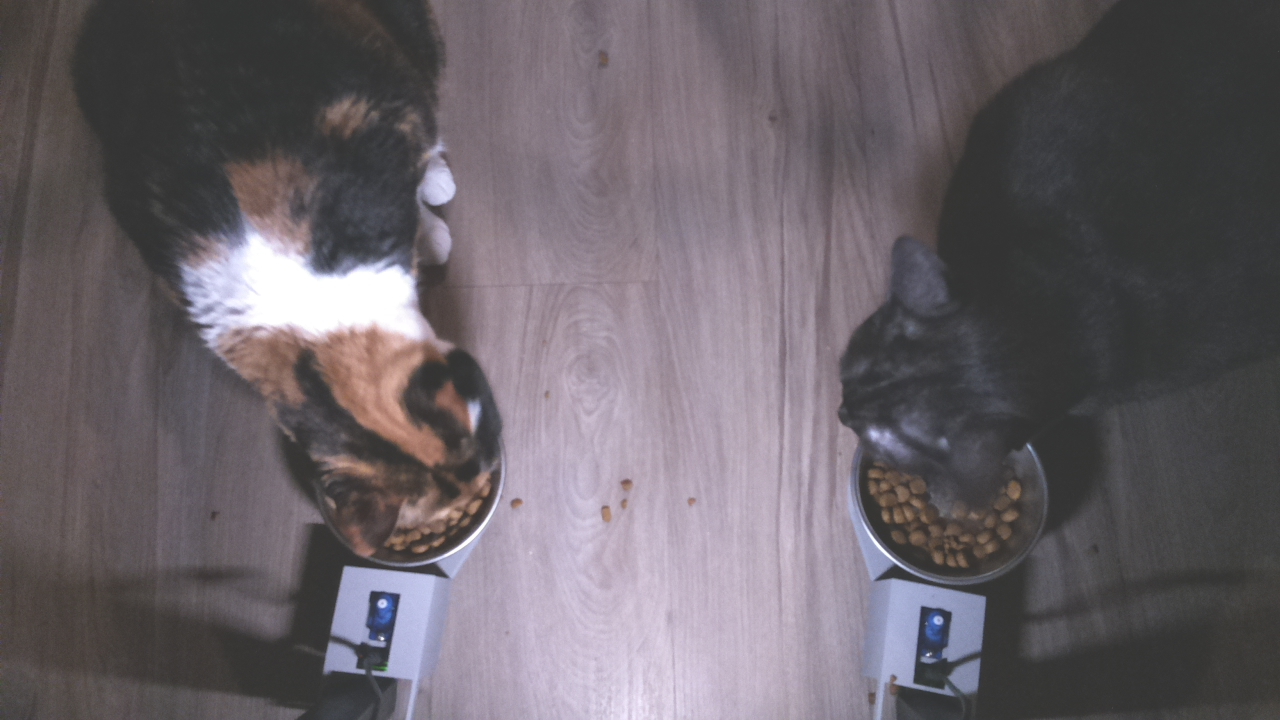bella_eating: (233, 247, 511, 579)
saki_eating: (823, 223, 1062, 591)
